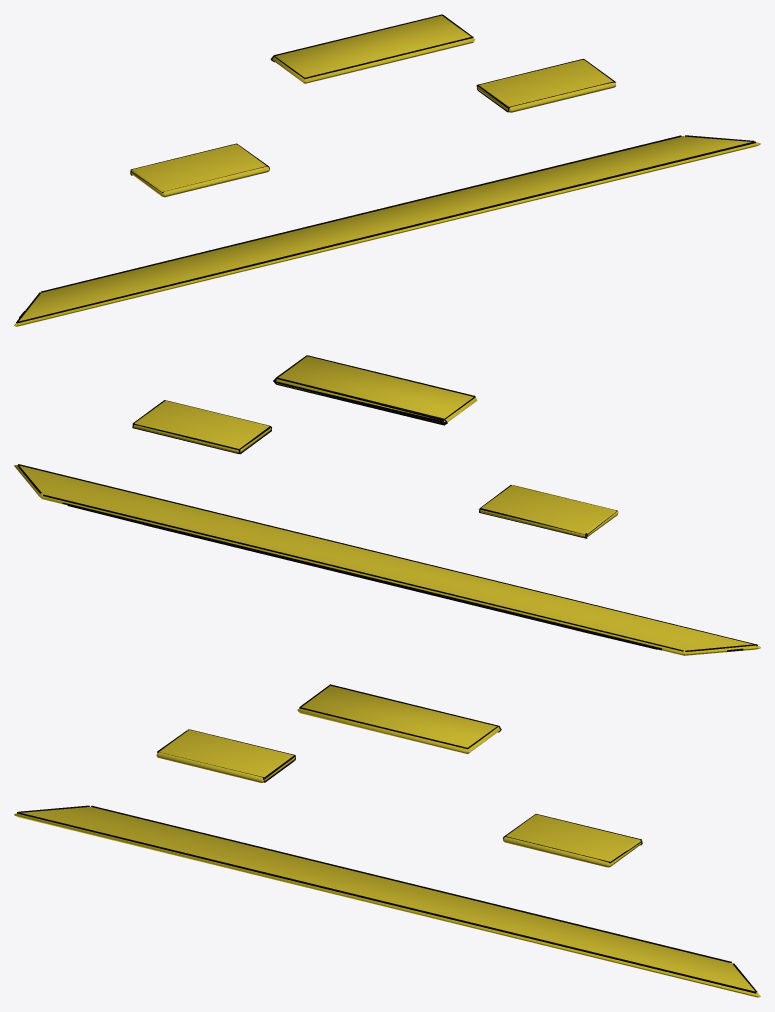
The model's file is Platforms.fbx.
The picture shows the model from 3 angles, top to bottom: view 1: azimuth 30°, elevation 25°; view 2: azimuth 150°, elevation 25°; view 3: azimuth 330°, elevation 25°; orthographic projection.
Parts seen in each view (by area): view 1: Platform, Platform.003, Platform.002, Platform.001; view 2: Platform, Platform.003, Platform.002, Platform.001; view 3: Platform, Platform.003, Platform.001, Platform.002.
Boxes of the visible parts, x1,y1,x2,y2 form: Platform: (14,135,760,326); Platform.003: (270,14,475,83); Platform.002: (476,59,616,112); Platform.001: (130,143,269,197); Platform: (14,464,760,655); Platform.003: (273,355,477,425); Platform.002: (132,400,271,454); Platform.001: (479,485,618,538); Platform: (14,805,760,997); Platform.003: (297,684,501,754); Platform.001: (156,729,295,782); Platform.002: (503,814,642,867).
Bounding box in the file's own units: 1304 × 305 × 103.
